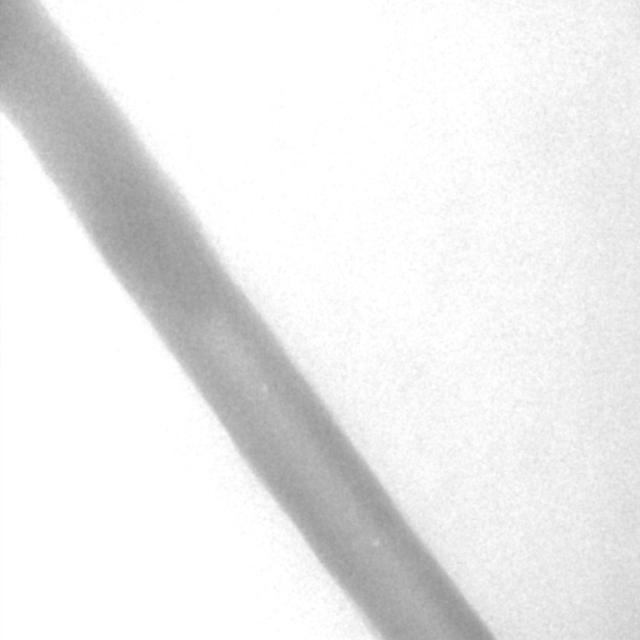air hole: (257, 380, 270, 396), (369, 535, 381, 550)
